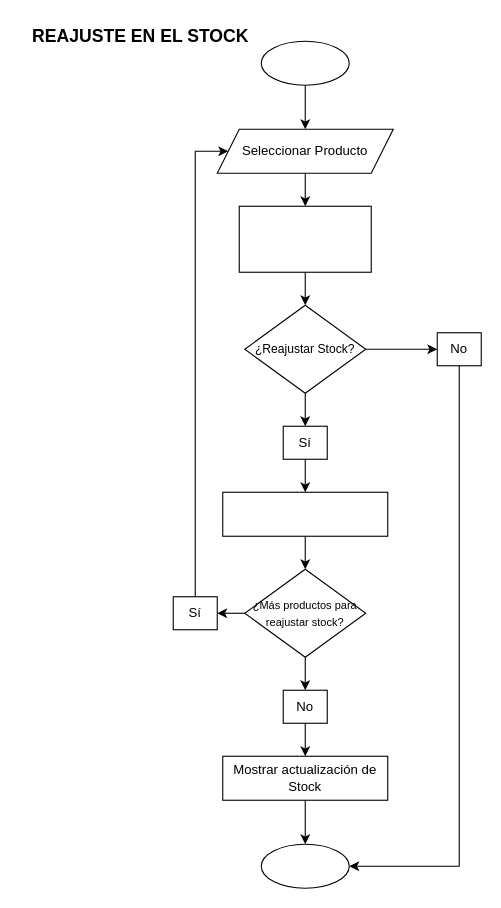
This 501x908 diagram has some shape labels left out. Here are the shapes that lost their labels. From the top down, the centre of each, then its label:
(x=304, y=62): INICIO
(x=304, y=238): Mostrar cantidad de productos actual en el sistema
(x=305, y=513): Reajustar Stock
(x=304, y=865): FIN
